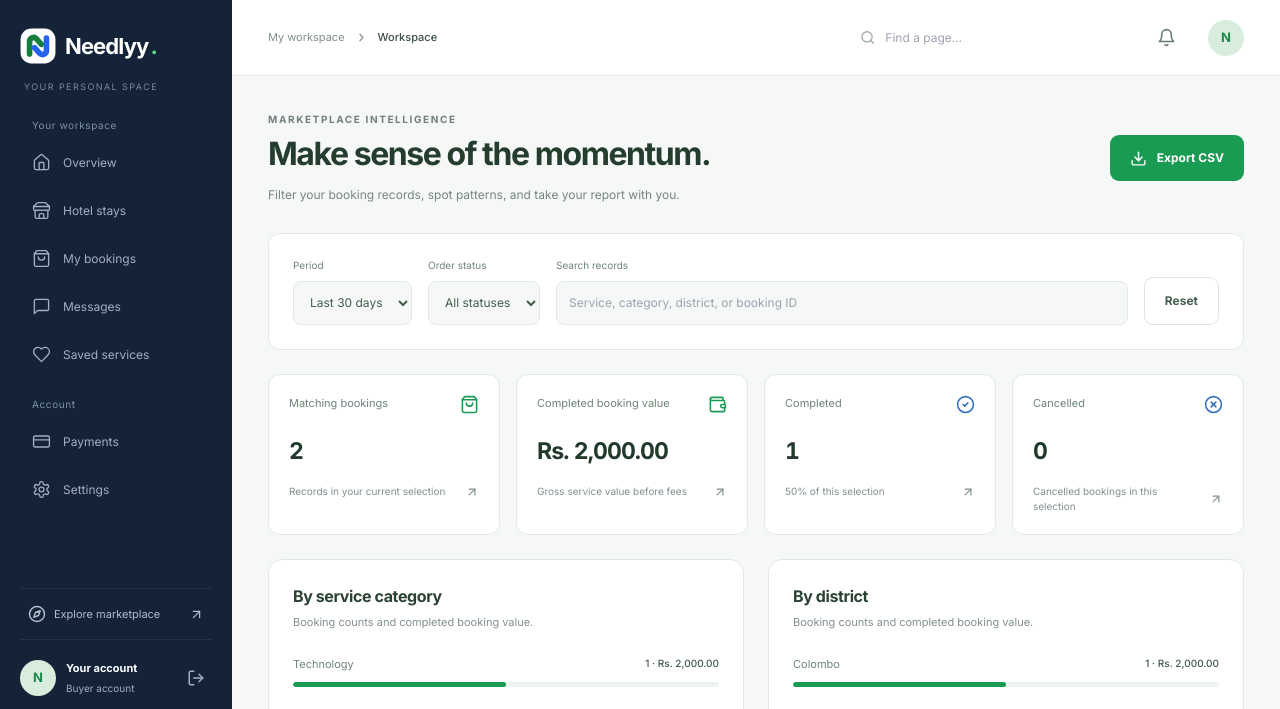
Test: report controls › filters actual records by status and restores them on Reset
The width and height of the screenshot is (1280, 709).
Select "completed" in the dropdown labelled "Order status": [484, 303] box [428, 281, 540, 325]
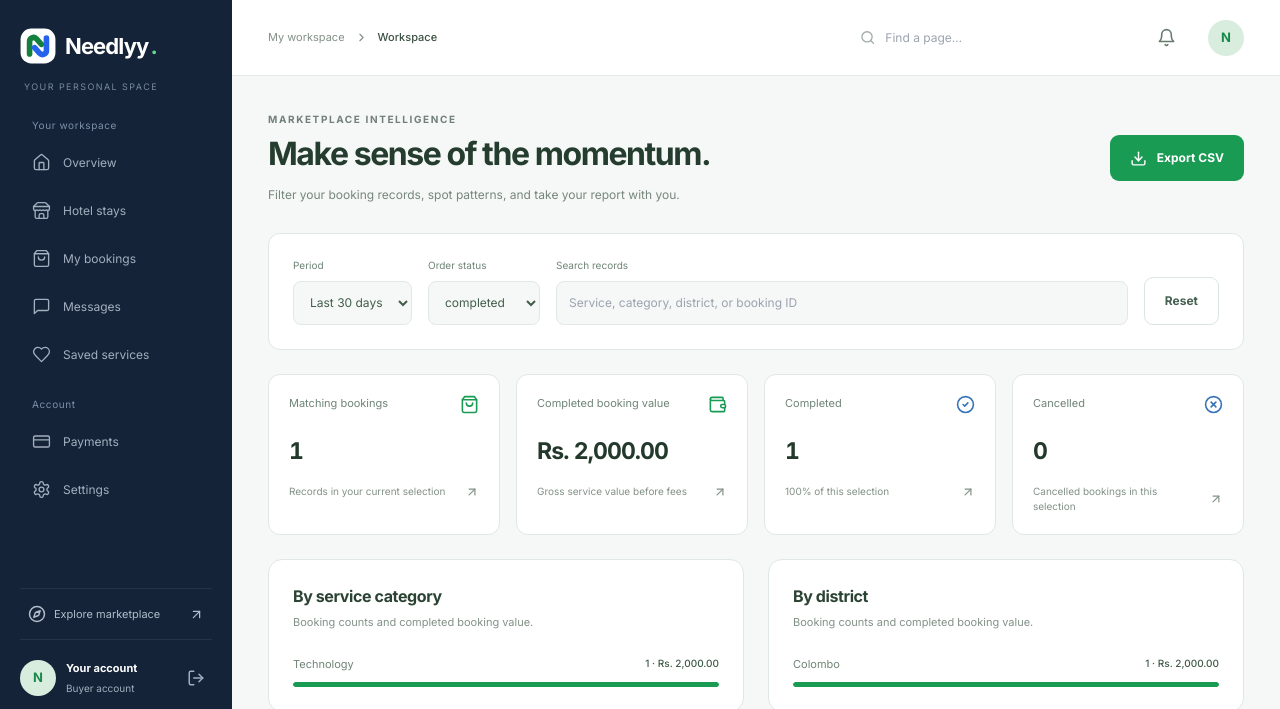
Expected: the text "Home clean" is not shown
Click the button "Reset": [1181, 301] box [1144, 277, 1219, 325]
(page scrolled)
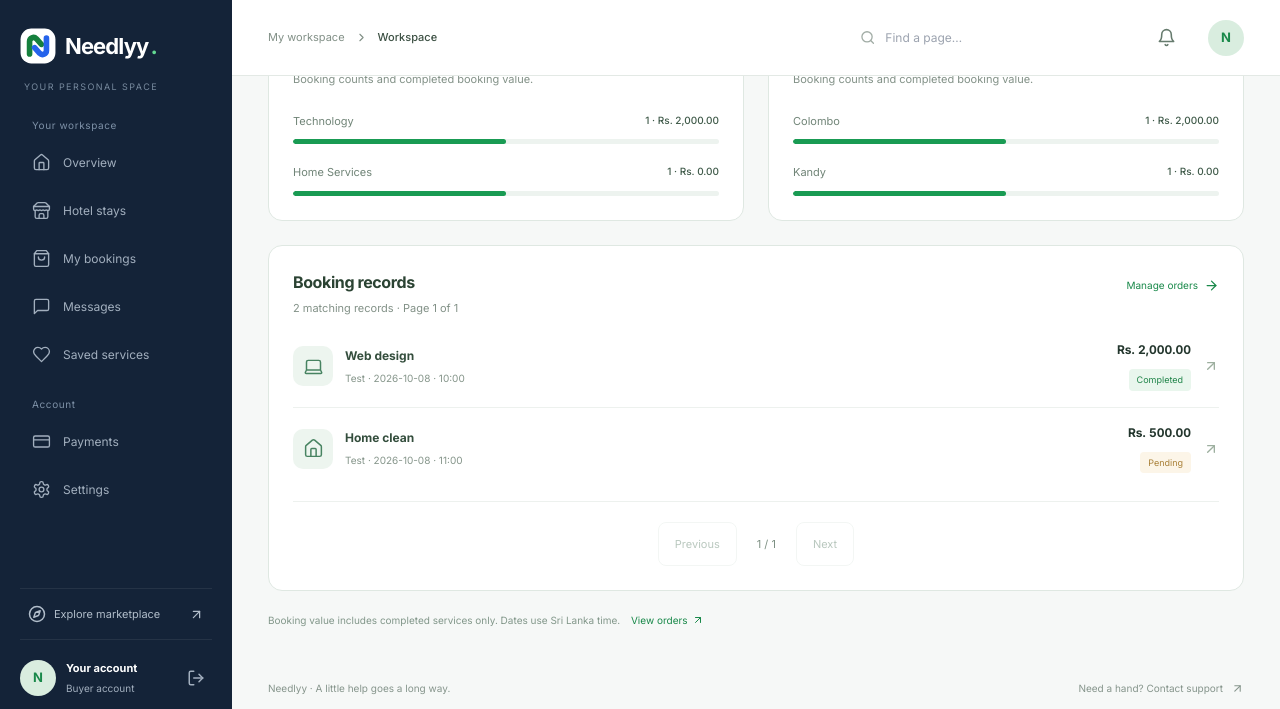
Now the text "Home clean" is shown, box [345, 430, 414, 445]
